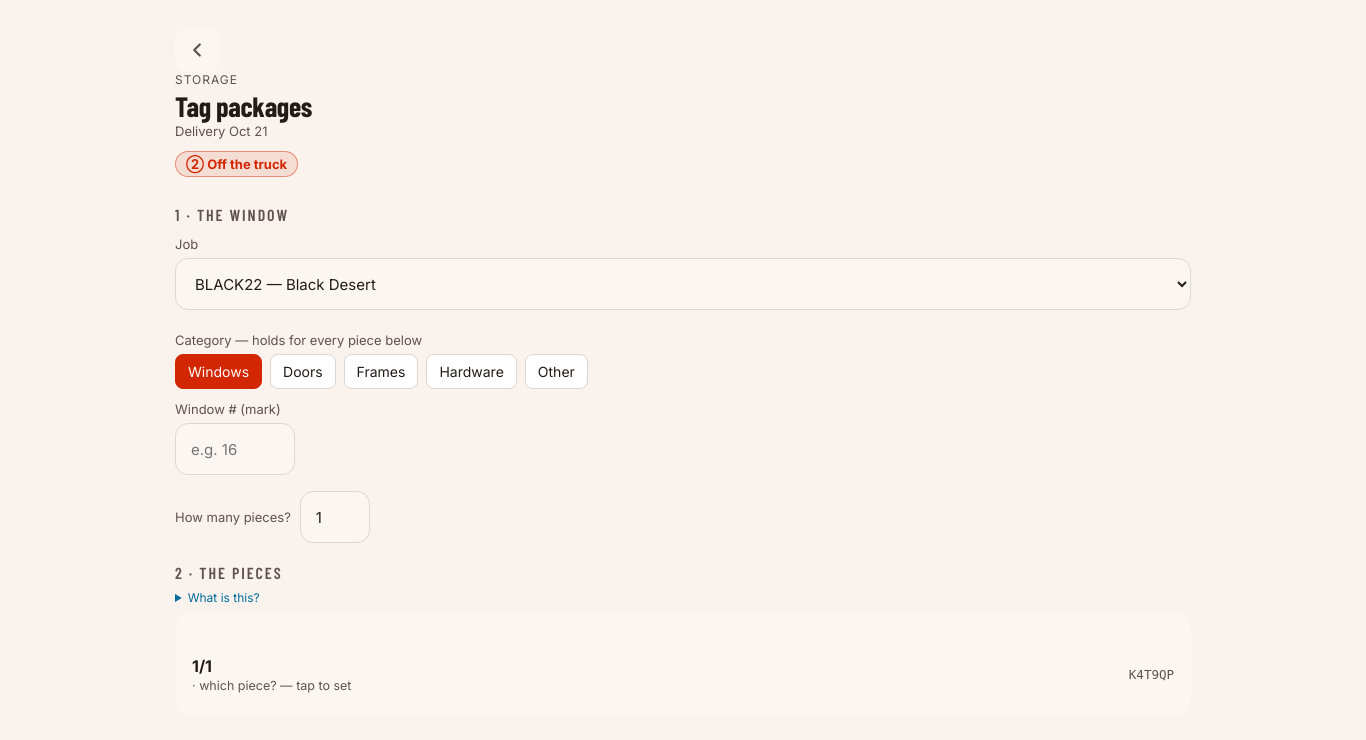
Test: the worksheet (owner spec, 2026-08-18) › a tapped line glows and takes the piece pick
What coordinates should you click on to do the following:
click the button "1/1 · which piece? — tap to set K4T9QP"
I would click on:
 (275, 685)
Its box is [175,613,1191,715].
(page scrolled)
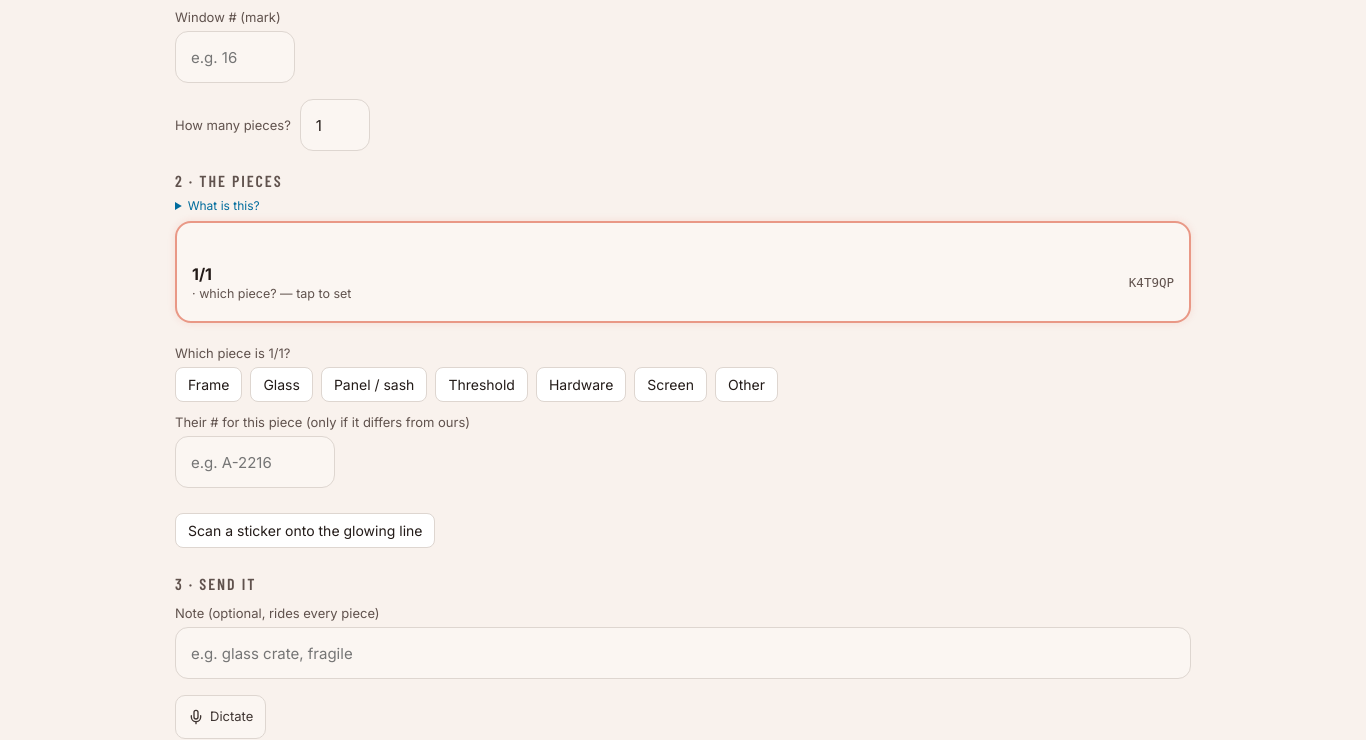
Check: the button "Glass" is shown
What coordinates should you click on to do the following:
click the button "Glass"
I would click on:
 (282, 384)
Its box is [250,367,313,402].
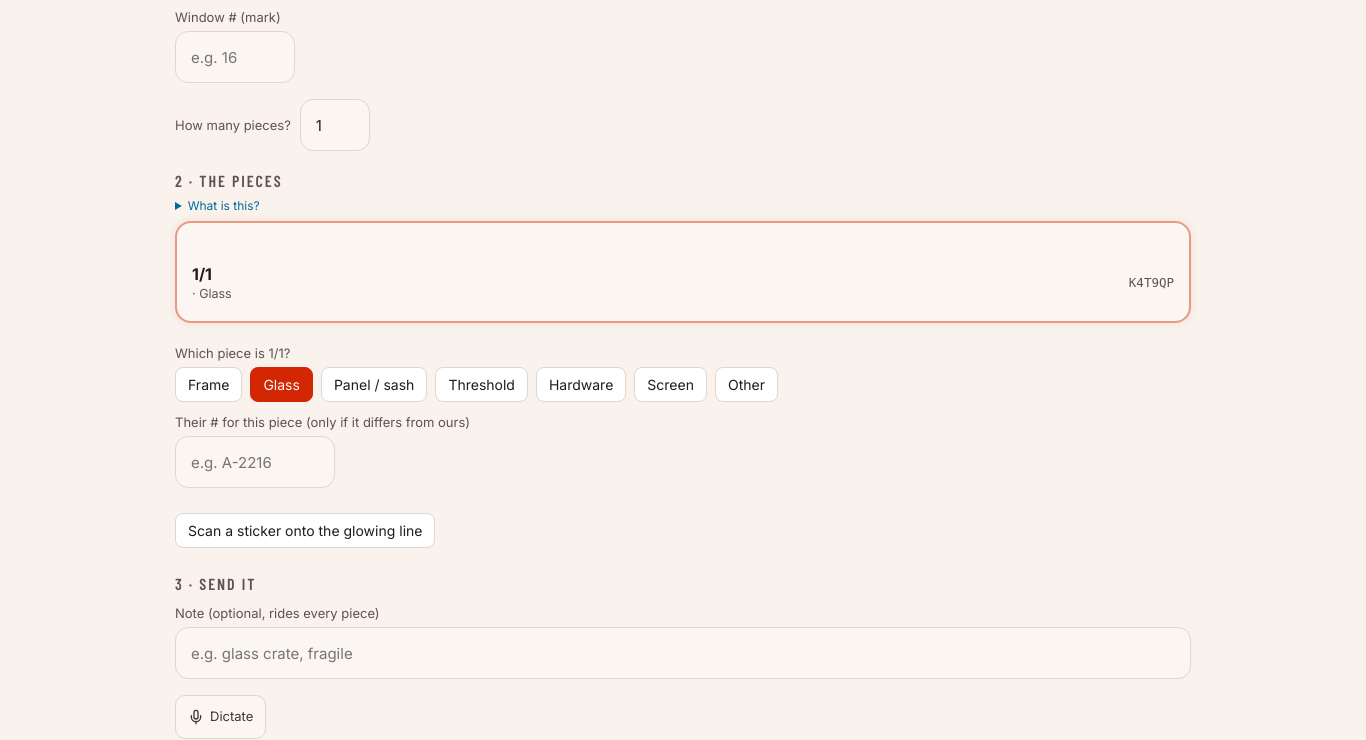
Check: the text "· Glass" is shown, box [192,286,232,300]
